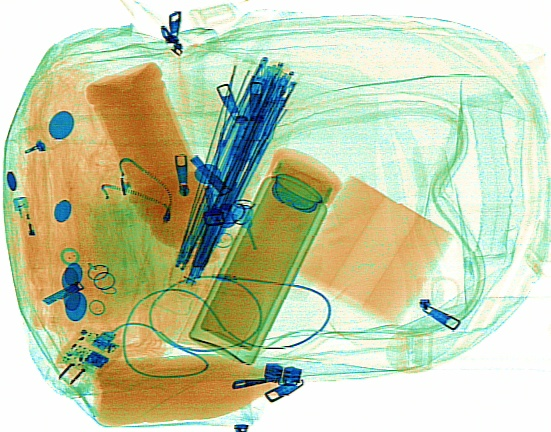lighter: (10, 191, 46, 271)
